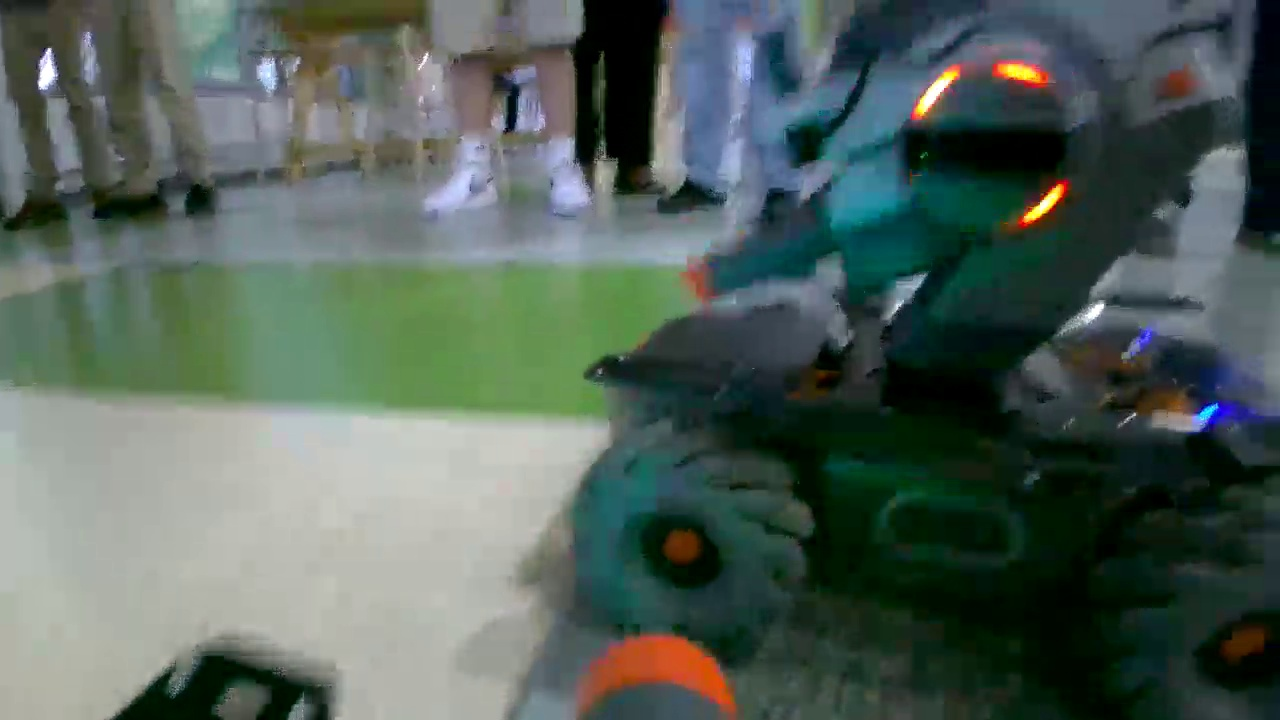robot: (569, 3, 1280, 718)
